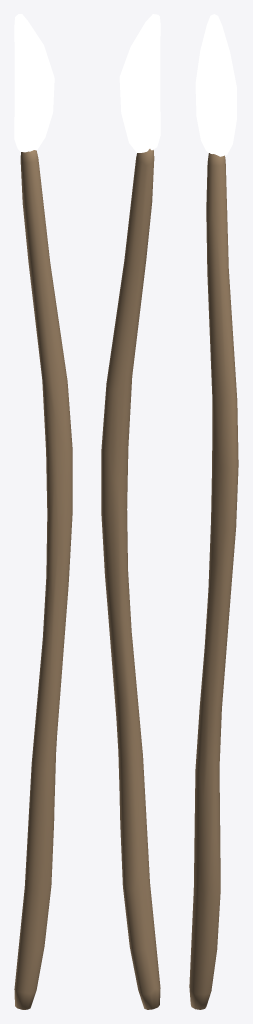
The model's file is staff.glb.
3 views of the same model, side by side, from view 1: azimuth 30°, elevation 25°; view 2: azimuth 210°, elevation 25°; view 3: azimuth 330°, elevation 25° (orthographic).
Parts seen in each view (by area): view 1: Shaft, Head; view 2: Shaft, Head; view 3: Shaft, Head.
Part boxes in pixels (box(x1,y1,x2,y2)): Shaft: box(14, 150, 72, 1009); Head: box(14, 14, 54, 152); Shaft: box(101, 149, 160, 1009); Head: box(119, 14, 160, 152); Shaft: box(189, 153, 238, 1009); Head: box(195, 14, 236, 156).
Size of the model in its own units: 0.0868 by 1.6 by 0.0698.
